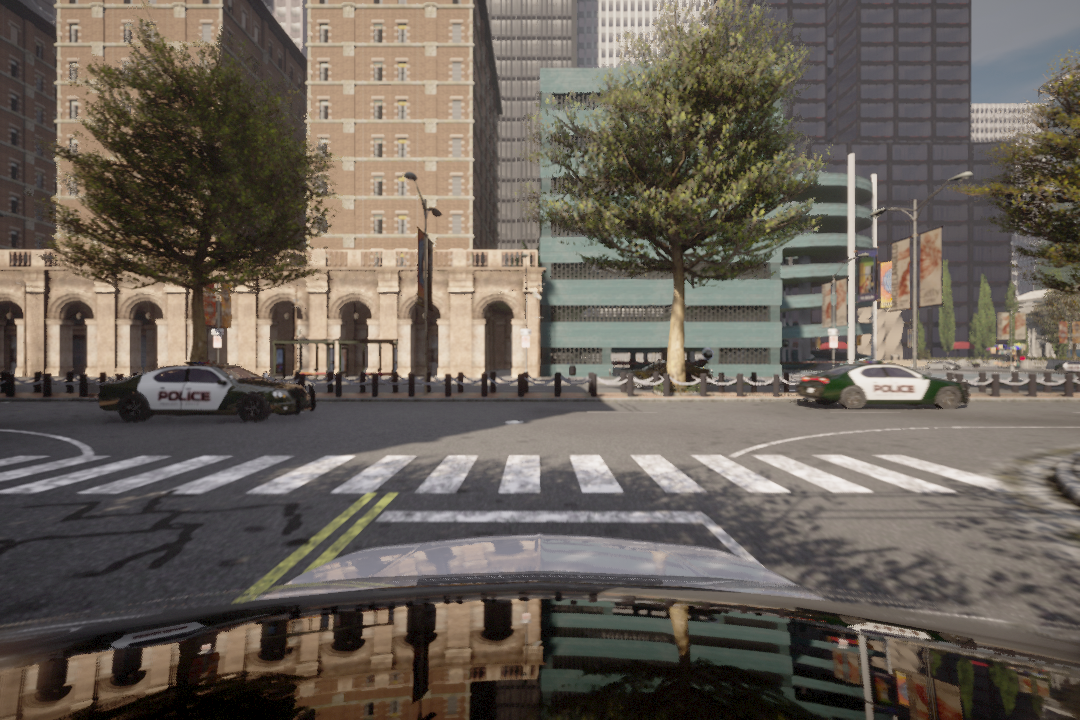walkside: (2, 448, 1046, 508)
